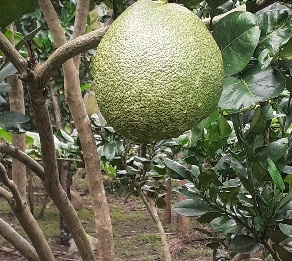Buoi: (90, 5, 230, 144)
